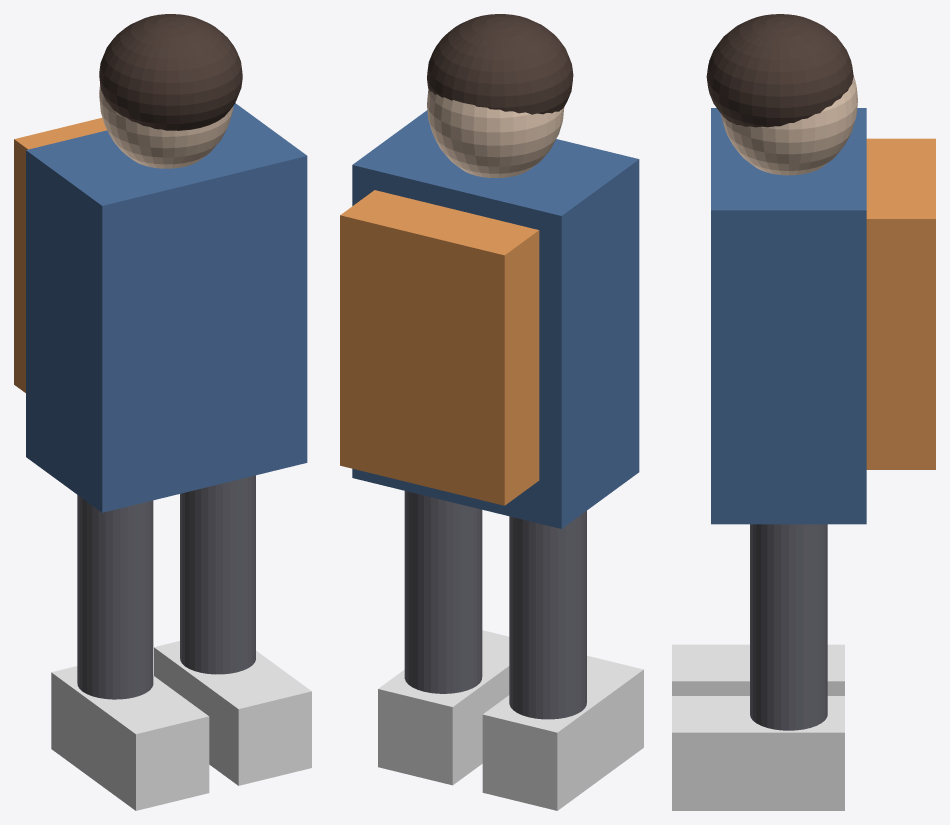
File: character_student.glb
3 renders of one model, left to right at view 1: azimuth 30°, elevation 25°; view 2: azimuth 150°, elevation 25°; view 3: azimuth 270°, elevation 25°, orthographic. The views are drawn at different scales.
Parts seen in each view (by area): view 1: Player_Torso, Player_Shoe_L, Player_Leg_L, Player_Leg_R, Player_Hair, Player_Shoe_R, Player_Head, Player_Backpack; view 2: Player_Backpack, Player_Torso, Player_Shoe_L, Player_Leg_L, Player_Leg_R, Player_Hair, Player_Shoe_R, Player_Head; view 3: Player_Torso, Player_Backpack, Player_Shoe_R, Player_Leg_R, Player_Hair, Player_Head, Player_Shoe_L.
Boxes of the visible parts, bbox=[...] form: Player_Torso: bbox=[26, 103, 307, 512]; Player_Shoe_L: bbox=[51, 666, 209, 810]; Player_Leg_L: bbox=[77, 495, 153, 699]; Player_Leg_R: bbox=[180, 475, 255, 674]; Player_Hair: bbox=[99, 14, 242, 130]; Player_Shoe_R: bbox=[154, 641, 311, 785]; Player_Head: bbox=[99, 84, 233, 168]; Player_Backpack: bbox=[14, 118, 106, 392]; Player_Backpack: bbox=[340, 190, 539, 505]; Player_Torso: bbox=[352, 110, 639, 528]; Player_Shoe_L: bbox=[482, 655, 643, 810]; Player_Leg_L: bbox=[509, 511, 586, 719]; Player_Leg_R: bbox=[404, 491, 482, 693]; Player_Hair: bbox=[427, 14, 573, 114]; Player_Shoe_R: bbox=[378, 630, 509, 785]; Player_Head: bbox=[427, 89, 564, 177]; Player_Torso: bbox=[711, 108, 866, 524]; Player_Backpack: bbox=[866, 138, 935, 469]; Player_Shoe_R: bbox=[672, 696, 844, 810]; Player_Leg_R: bbox=[750, 524, 827, 730]; Player_Hair: bbox=[706, 14, 853, 127]; Player_Head: bbox=[721, 76, 857, 175]; Player_Shoe_L: bbox=[672, 644, 844, 695].
Size of the model in its own units: 0.56 by 1.9 by 0.61.
